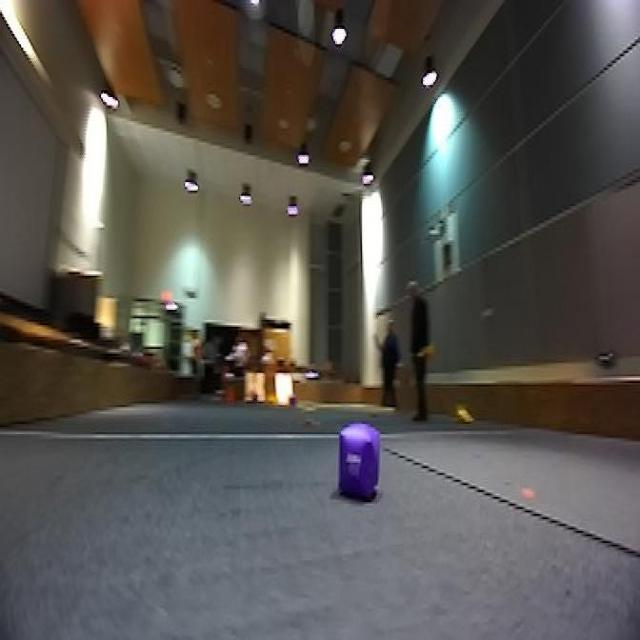frc_cone: (452, 396, 473, 426), (417, 340, 436, 362), (259, 390, 281, 407)
frc_cube: (338, 427, 378, 497), (247, 390, 261, 407), (288, 392, 300, 408)
